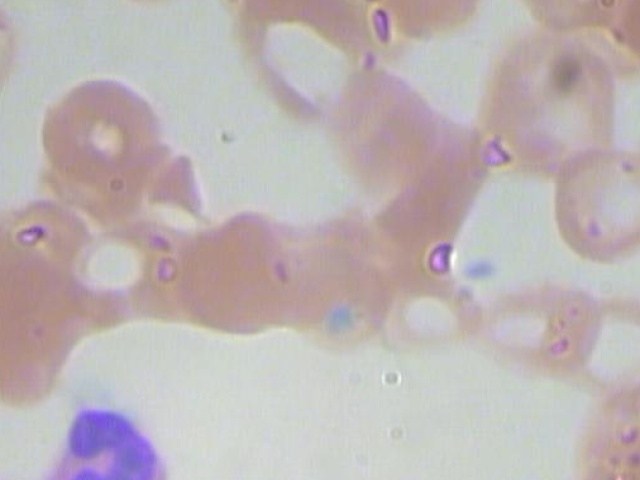RBC: (29, 60, 170, 193), (478, 256, 610, 386), (174, 206, 305, 336), (316, 66, 447, 196), (531, 136, 640, 266), (373, 258, 486, 363), (0, 260, 76, 411), (0, 0, 18, 109)
WBC: (25, 397, 198, 480)
